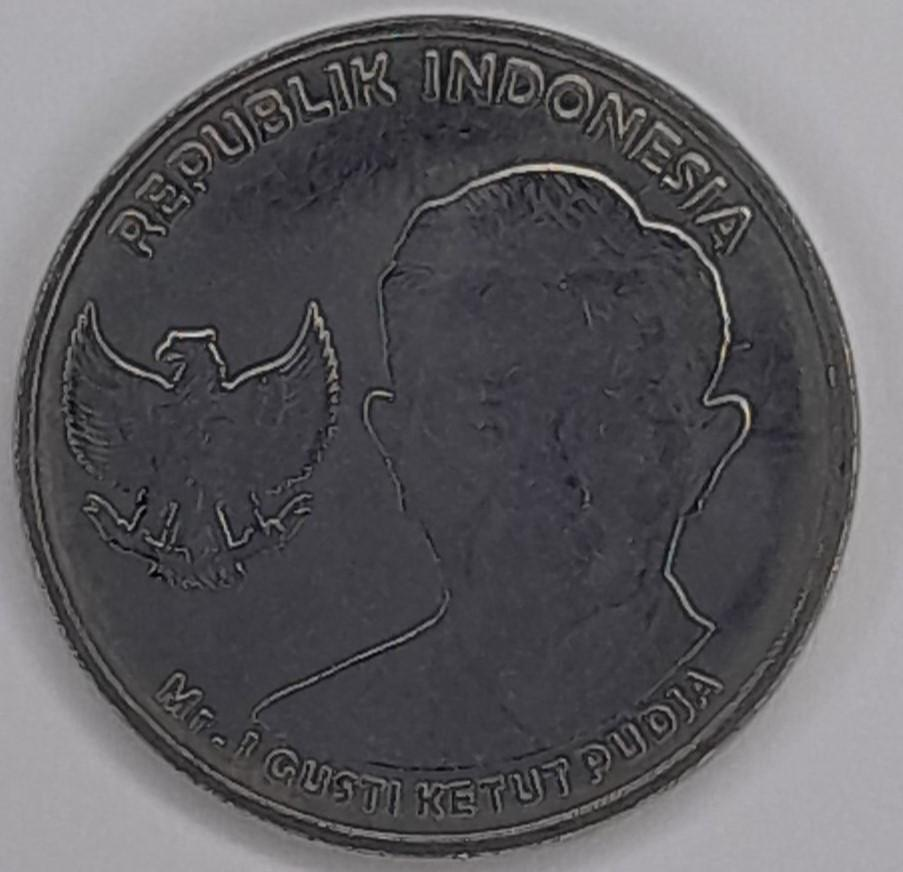coin_1000_e2016: (15, 17, 891, 872)
